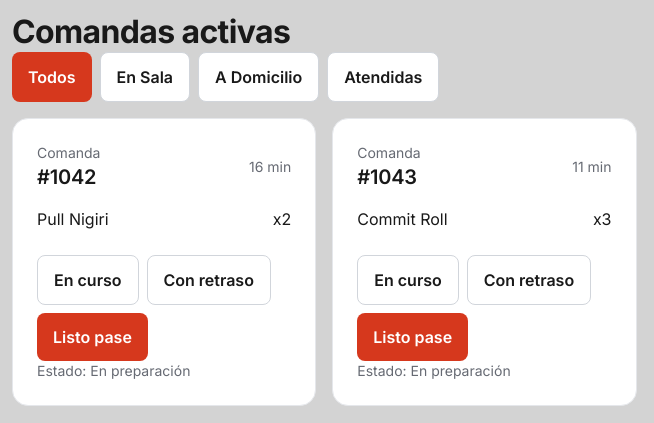
Test: KitchenOrderList › filters orders by in store channel
This screenshot has width=654, height=423.
What coordinates should you click on to do the following:
click the button "En Sala"
I would click on:
 (145, 77)
Its box is [100,52,190,102].
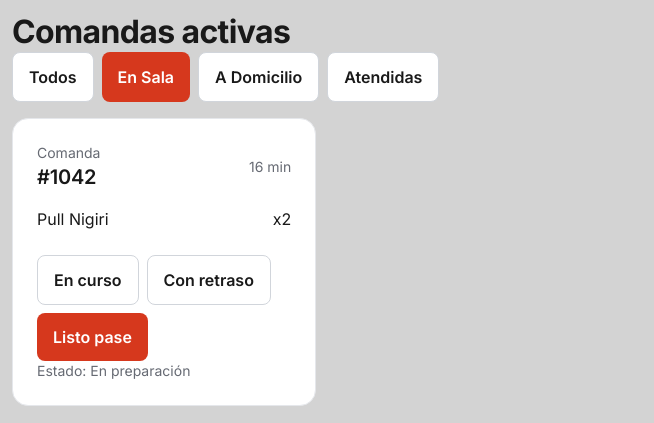
Expected: the text "#1042" is shown, [37,163,100,191]
Expected: the text "#1043" is gone
